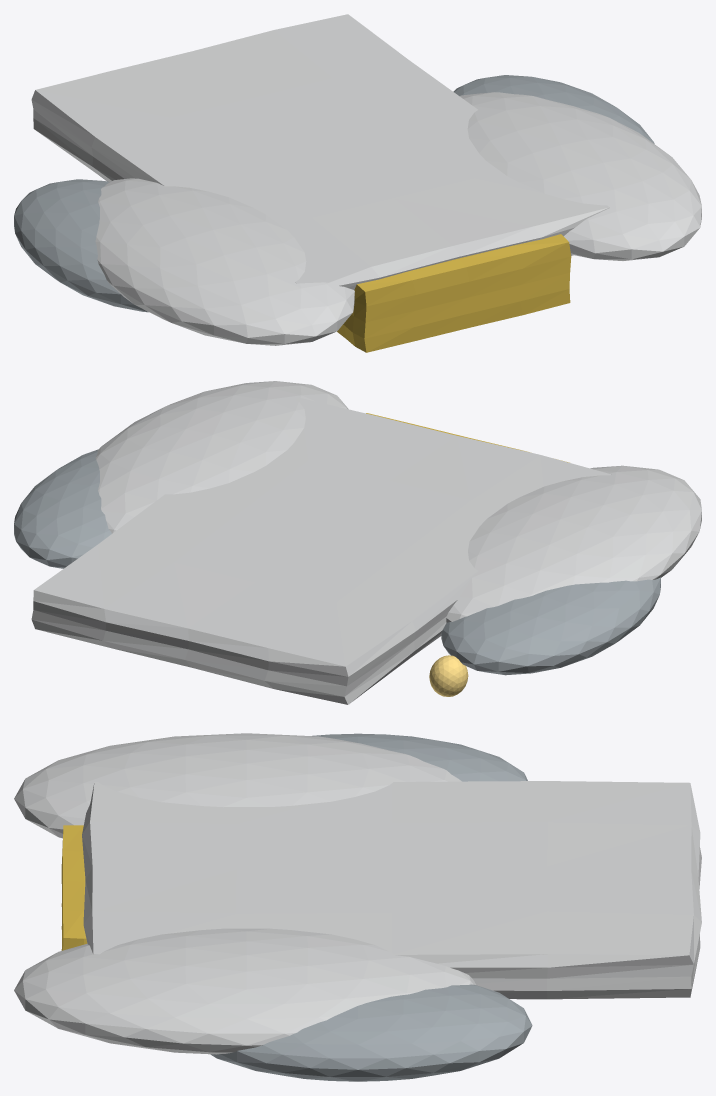
Rendered from capa-alada.glb.
The picture shows the model from 3 angles, top to bottom: view 1: azimuth 30°, elevation 25°; view 2: azimuth 150°, elevation 25°; view 3: azimuth 270°, elevation 25°; orthographic projection. The views are drawn at different scales.
Visible parts, largest first — view 1: capa-alada_00, capa-alada_02, capa-alada_04, capa-alada_01, capa-alada_03, capa-alada_05; view 2: capa-alada_00, capa-alada_02, capa-alada_04, capa-alada_03, capa-alada_05, Detalle_01; view 3: capa-alada_00, capa-alada_04, capa-alada_02, capa-alada_05, capa-alada_03, capa-alada_01.
Part boxes in pixels (x1,y1,x2,y2): capa-alada_00: (31,14,609,289); capa-alada_02: (95,178,354,345); capa-alada_04: (459,92,701,260); capa-alada_01: (337,234,571,352); capa-alada_03: (14,179,148,312); capa-alada_05: (453,75,654,143); capa-alada_00: (31,397,610,704); capa-alada_02: (446,465,701,622); capa-alada_04: (95,381,348,533); capa-alada_03: (441,577,660,675); capa-alada_05: (14,449,111,568); Detalle_01: (429,655,468,696); capa-alada_00: (82,781,701,999); capa-alada_04: (14,928,475,1054); capa-alada_02: (14,733,461,838); capa-alada_05: (210,984,532,1081); capa-alada_03: (312,733,527,781); capa-alada_01: (61,825,87,950).
Bounding box in the file's own units: 1.58 × 0.212 × 1.42.
